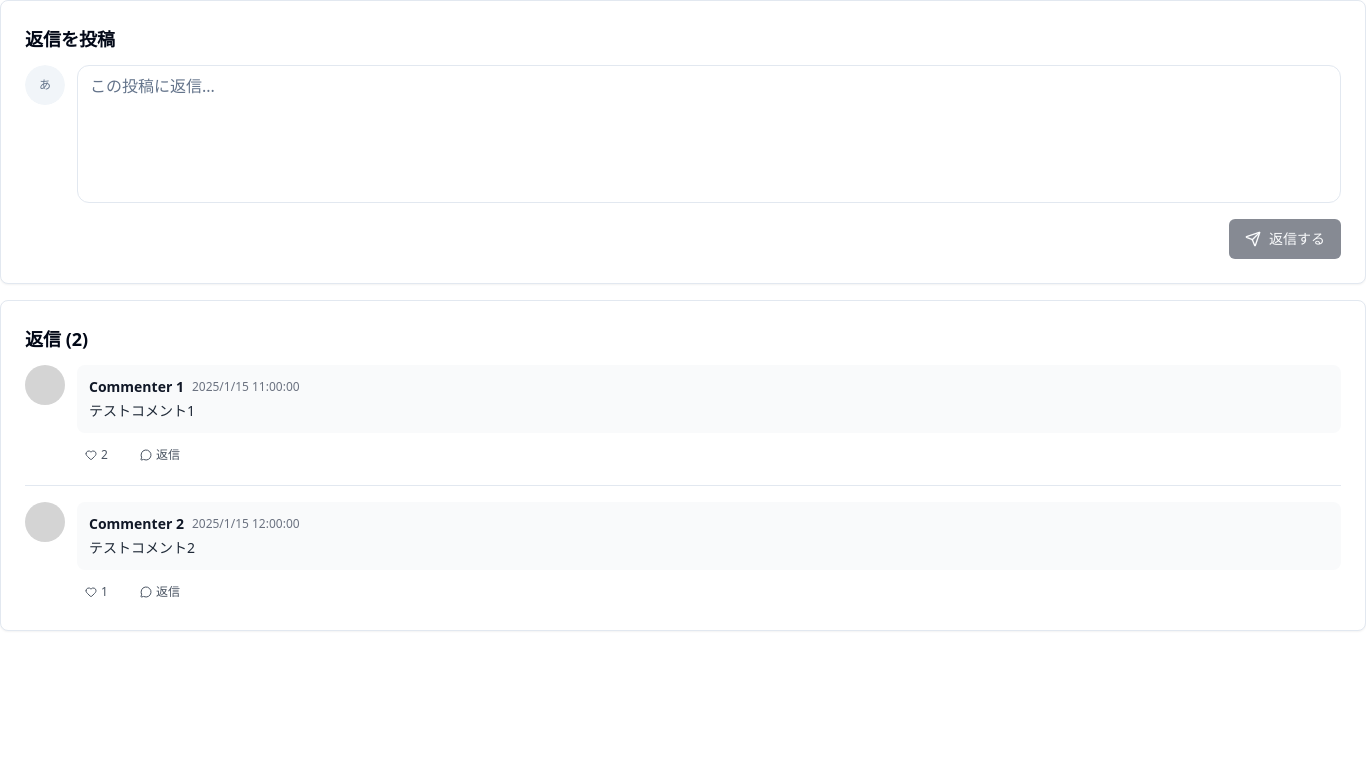
Scenario: ReplySection › shows loading state during reply submission
The width and height of the screenshot is (1366, 768).
Type "新しいコメント" into the text box with placeholder "この投稿に返信..." at (709, 134), box [77,65,1341,203]
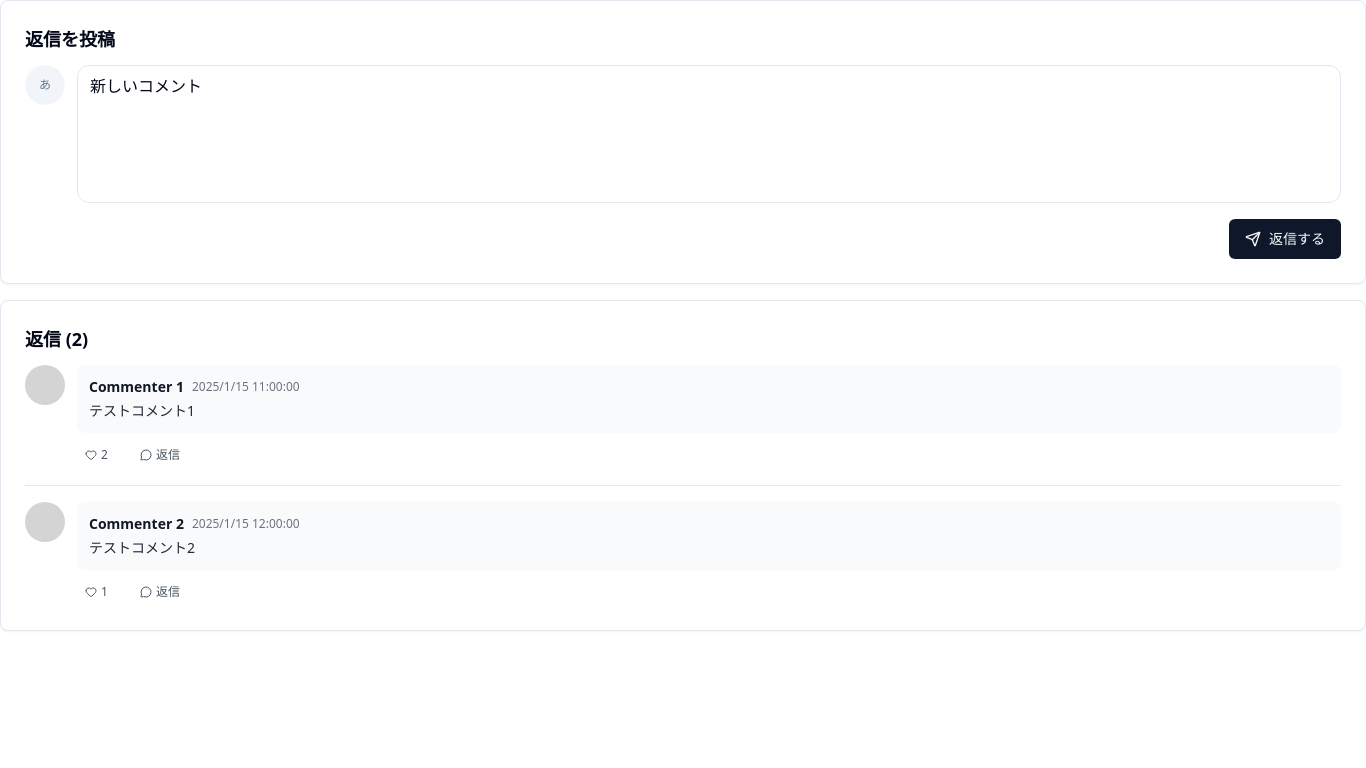
Click the button "返信する" at (1285, 239), box [1229,219,1341,259]
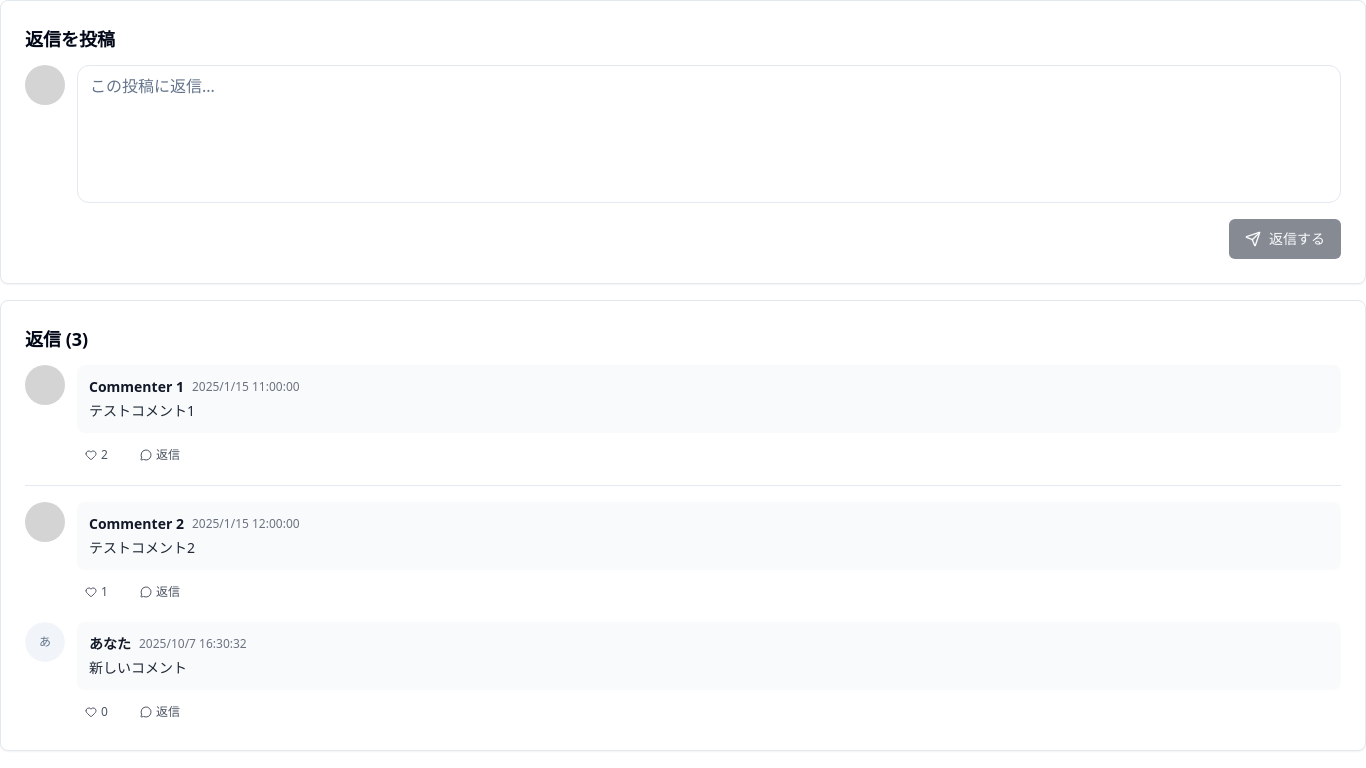
Expected: the button "返信する" is disabled, [1229,219,1341,259]
